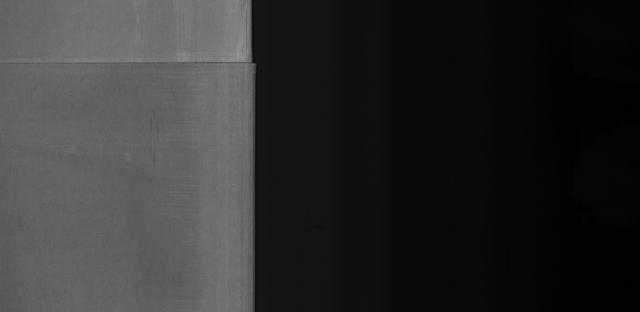welding_line: (0, 50, 301, 80)
